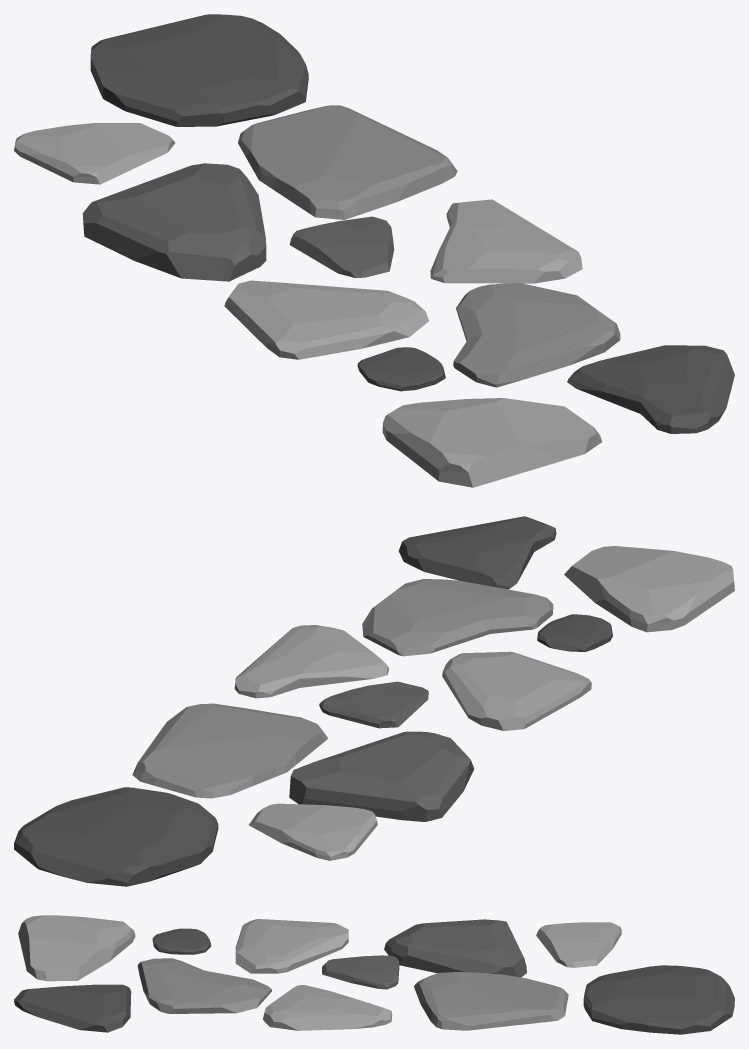
The model's file is CobbleStoneE03.fbx.
3 renders of one model, top to bottom at view 1: azimuth 30°, elevation 25°; view 2: azimuth 150°, elevation 25°; view 3: azimuth 270°, elevation 25°, orthographic. The views are drawn at different scales.
Visible parts, largest first — view 1: LOD0; view 2: LOD0; view 3: LOD0.
Boxes of the visible parts, x1,y1,x2,y2 form: LOD0: (14, 14, 734, 487); LOD0: (14, 516, 734, 886); LOD0: (14, 915, 734, 1034).
Size of what is drawn, in the model's own units: 258 by 717 by 21.47.
